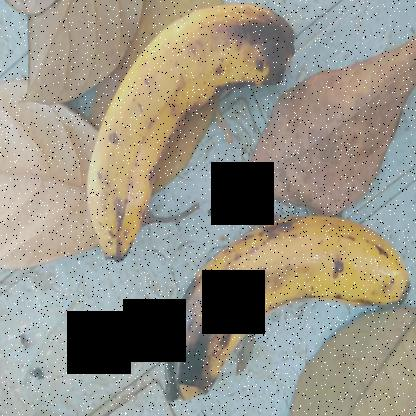overripe: (74, 0, 235, 260), (217, 189, 415, 344)
rotten: (154, 243, 254, 415), (210, 0, 304, 130)
